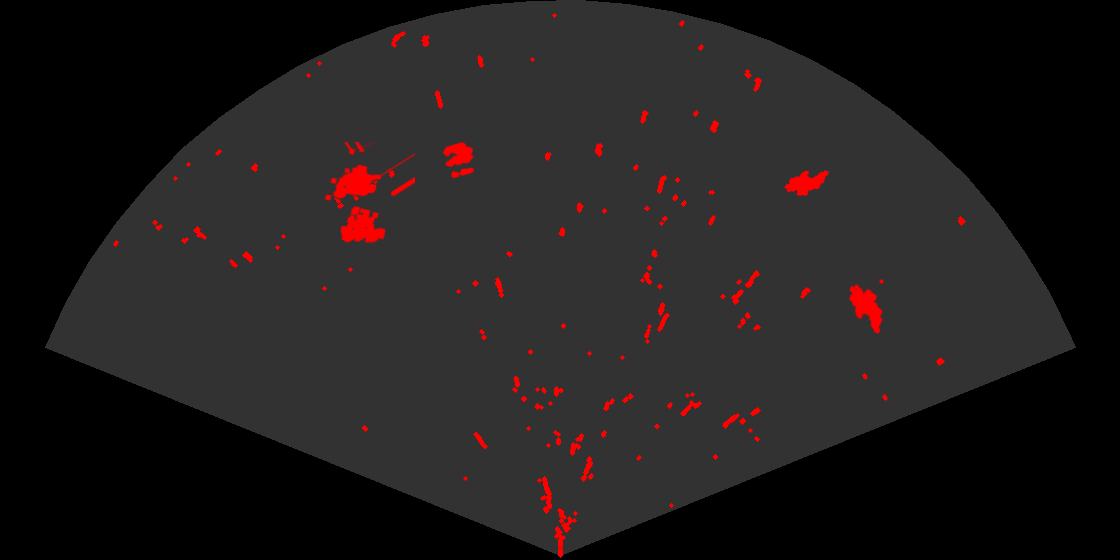AUV: (847, 282, 885, 336), (783, 169, 830, 198)
ball: (441, 140, 476, 180)
cage: (323, 142, 415, 245)
